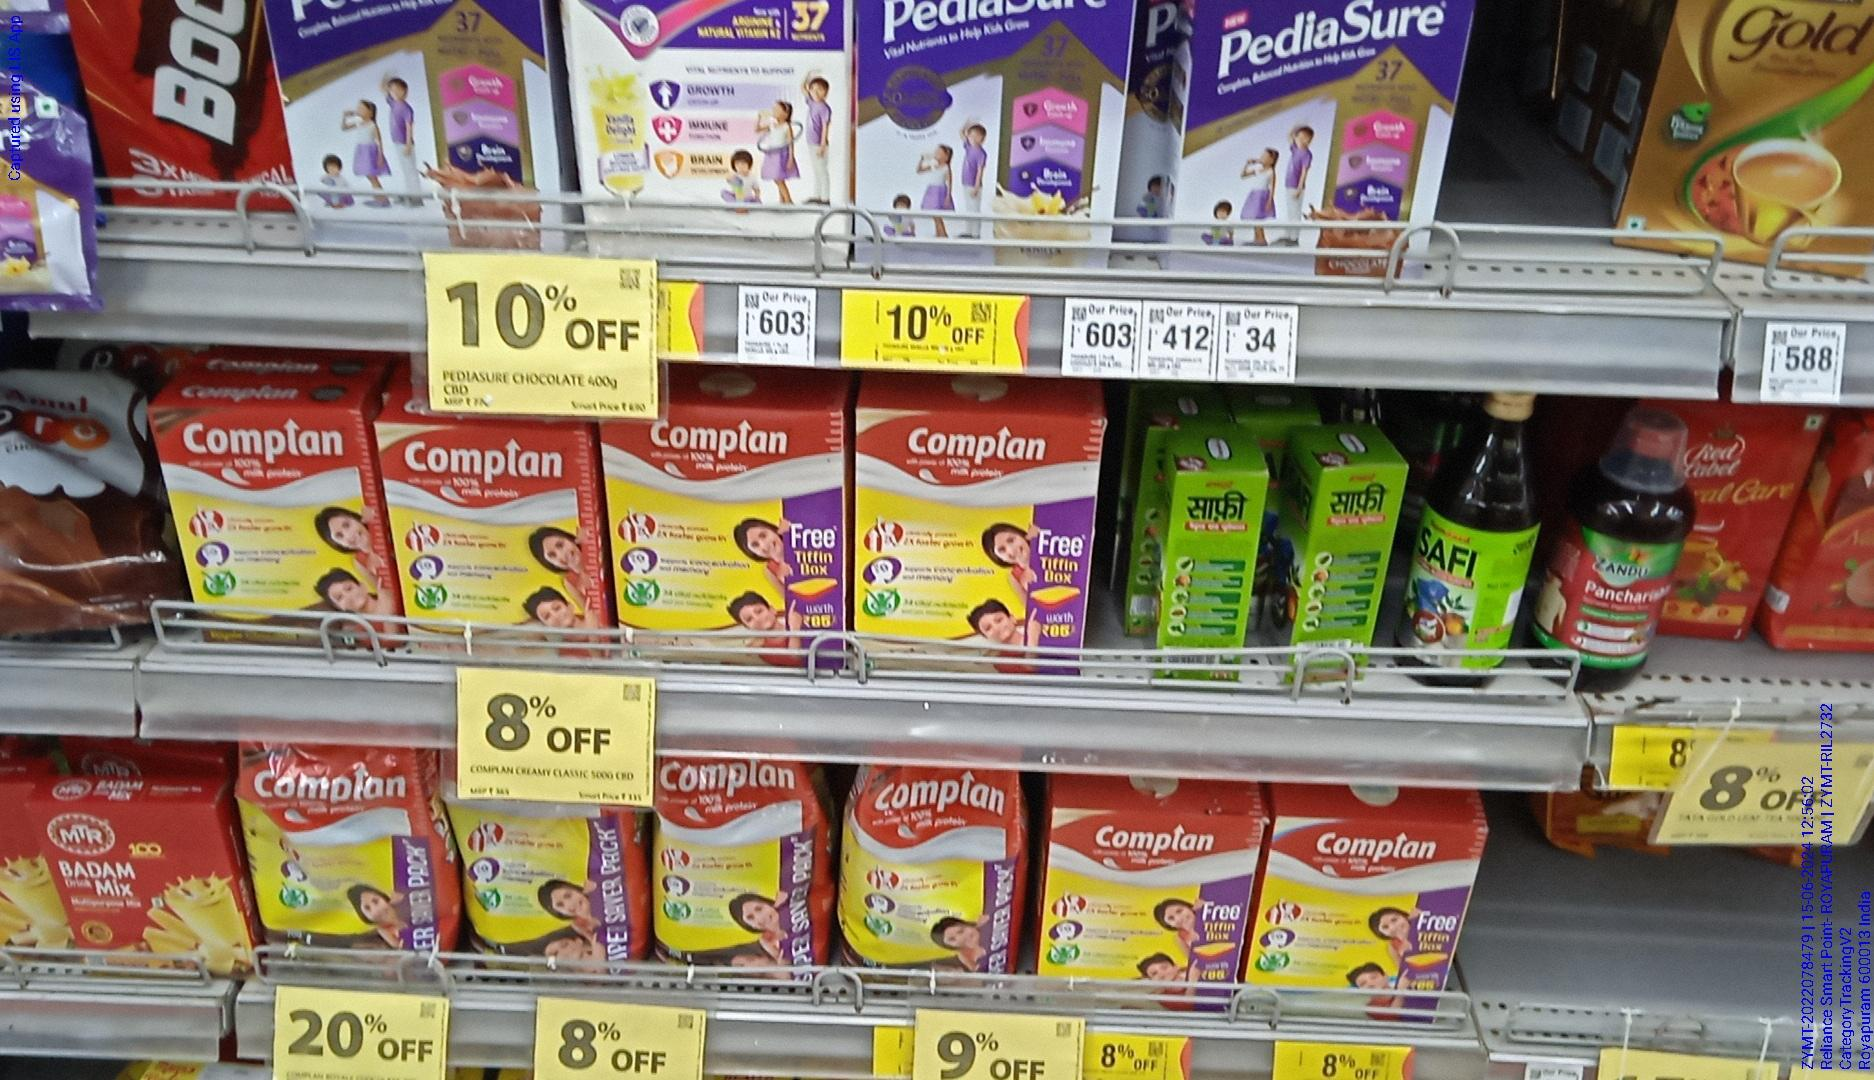COMPLAN_CHOCOLATE_500_GMS_PACK: (170, 396, 369, 650)
COMPLAN_CREAMY_CLASSIC_500_G_PACK: (1261, 808, 1448, 1022)
COMPLAN_KESAR_BADAM_500_GMS_PACK: (857, 405, 1090, 681), (608, 417, 842, 669), (389, 421, 600, 666), (1046, 805, 1239, 1012)
COMPLAN_RC_POUCH_700_GMS_12: (243, 741, 436, 982), (835, 766, 1025, 1000), (651, 761, 813, 986), (457, 802, 636, 977)
